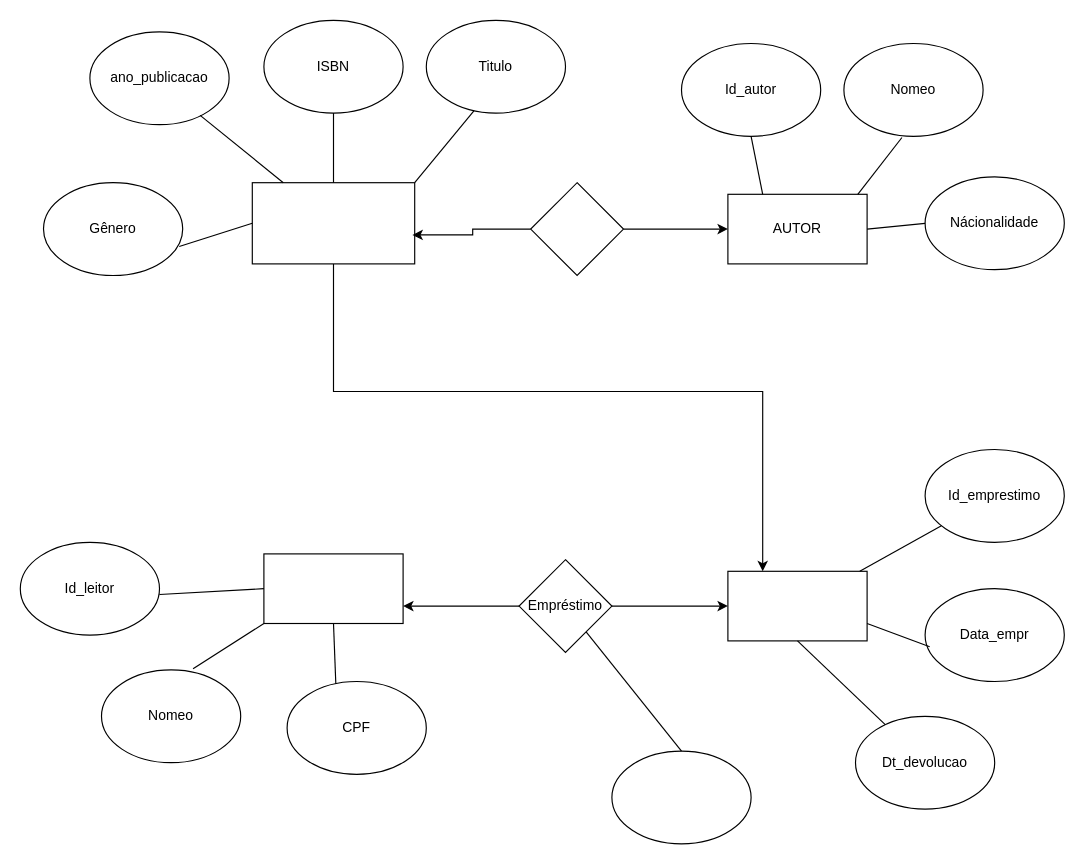
The diagram is 1085 pixels wide and 864 high, and some of its shapes have lost their labels. Each missing label, with the centre of its shape:
"EMPRESTIMO" belongs at point (797, 605).
"Escrever" belongs at point (577, 229).
"LEITOR" belongs at point (333, 588).
"LIVRO" belongs at point (333, 223).
"Multa" belongs at point (681, 797).
